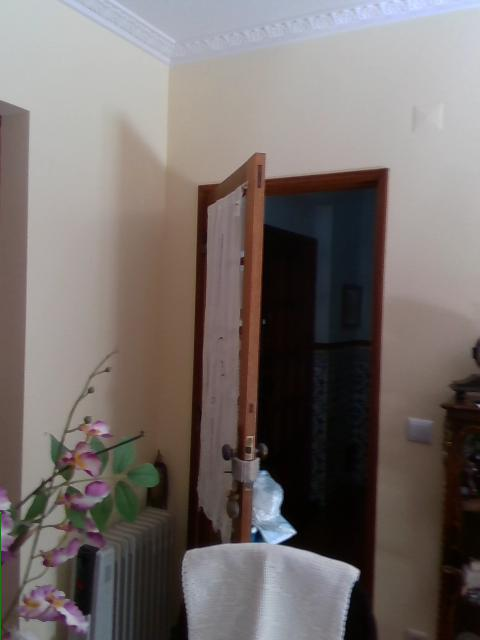semi_door: (182, 148, 392, 639)
